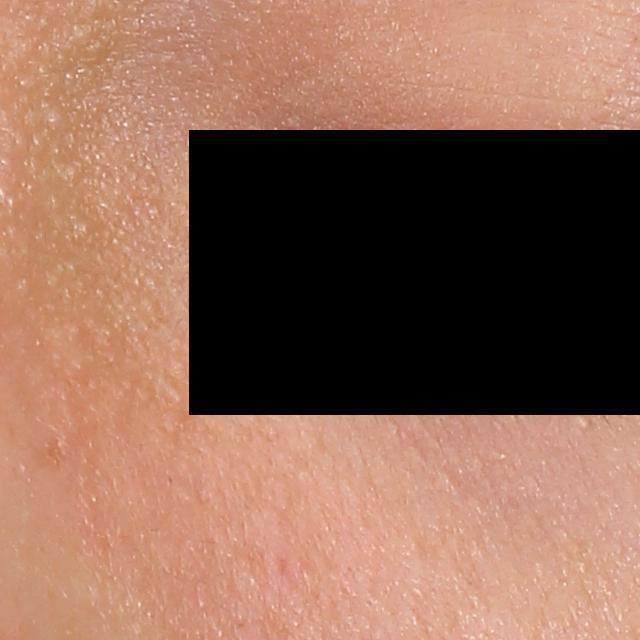comedo: (44, 107, 66, 139)
other: (576, 413, 592, 433)
